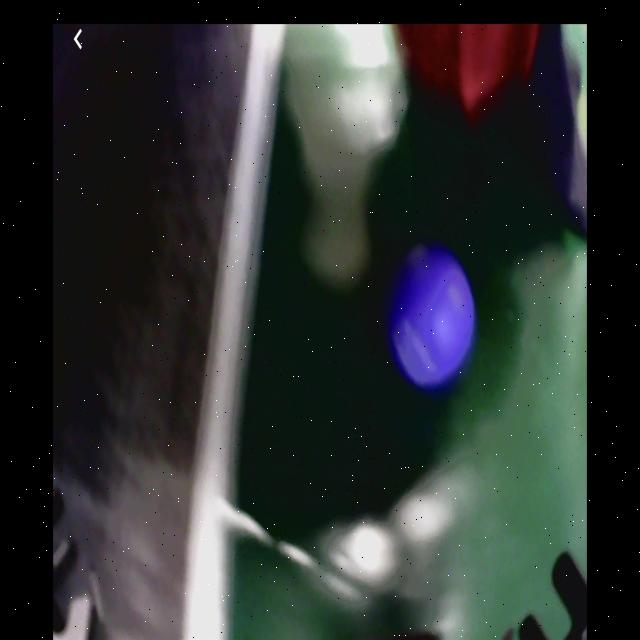ball: (389, 244, 475, 389)
